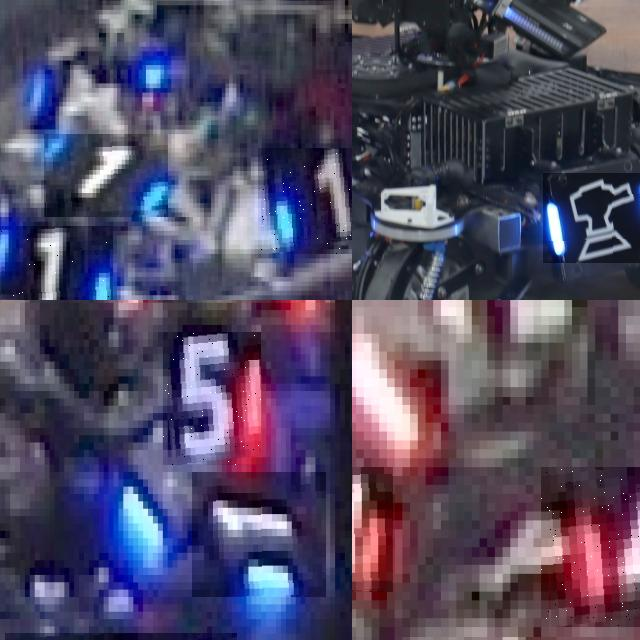B1: (192, 472, 326, 597), (44, 134, 168, 217), (258, 148, 352, 254), (0, 226, 113, 300)
Bs: (543, 172, 640, 263)
R4: (541, 467, 640, 627), (352, 467, 394, 591)
R5: (163, 332, 261, 465)
